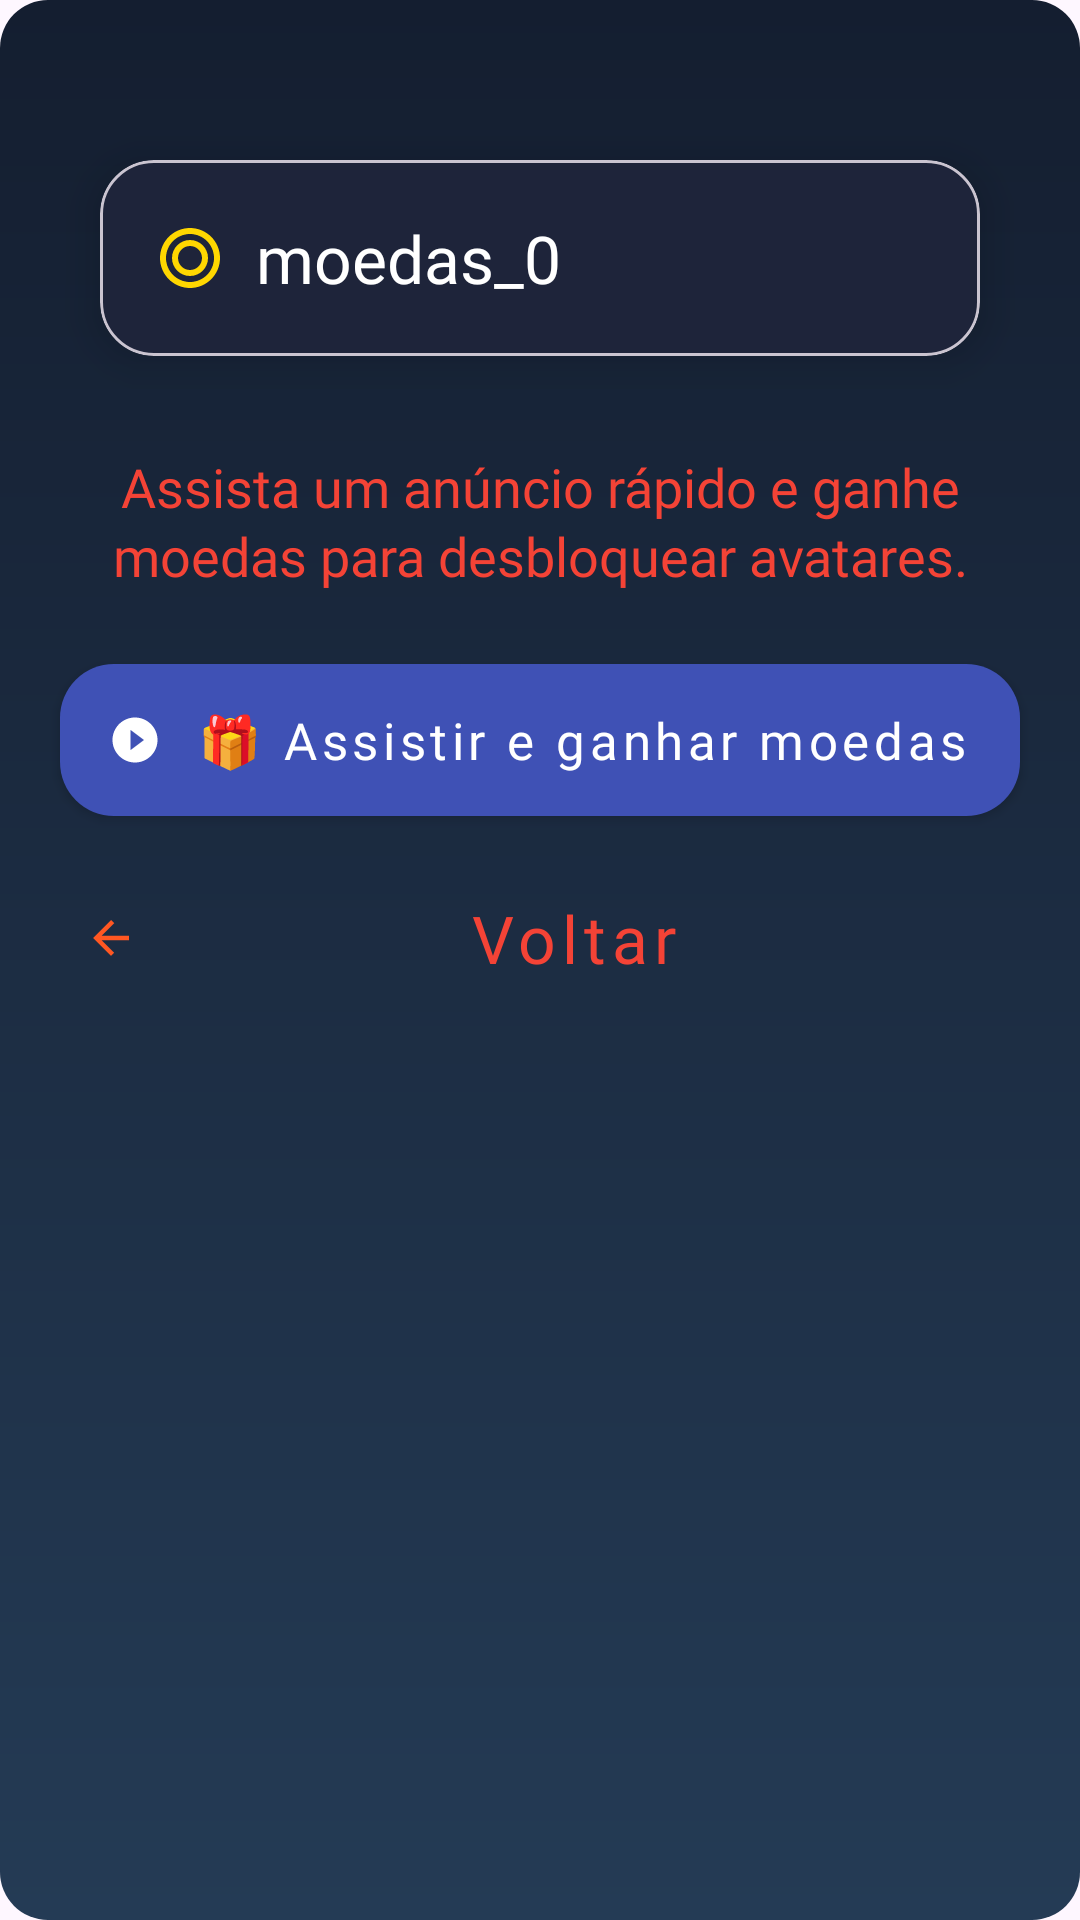

Icon click points for this 1080px x 1920px phone screenshot, format (x,y):
coin: (190,258)
